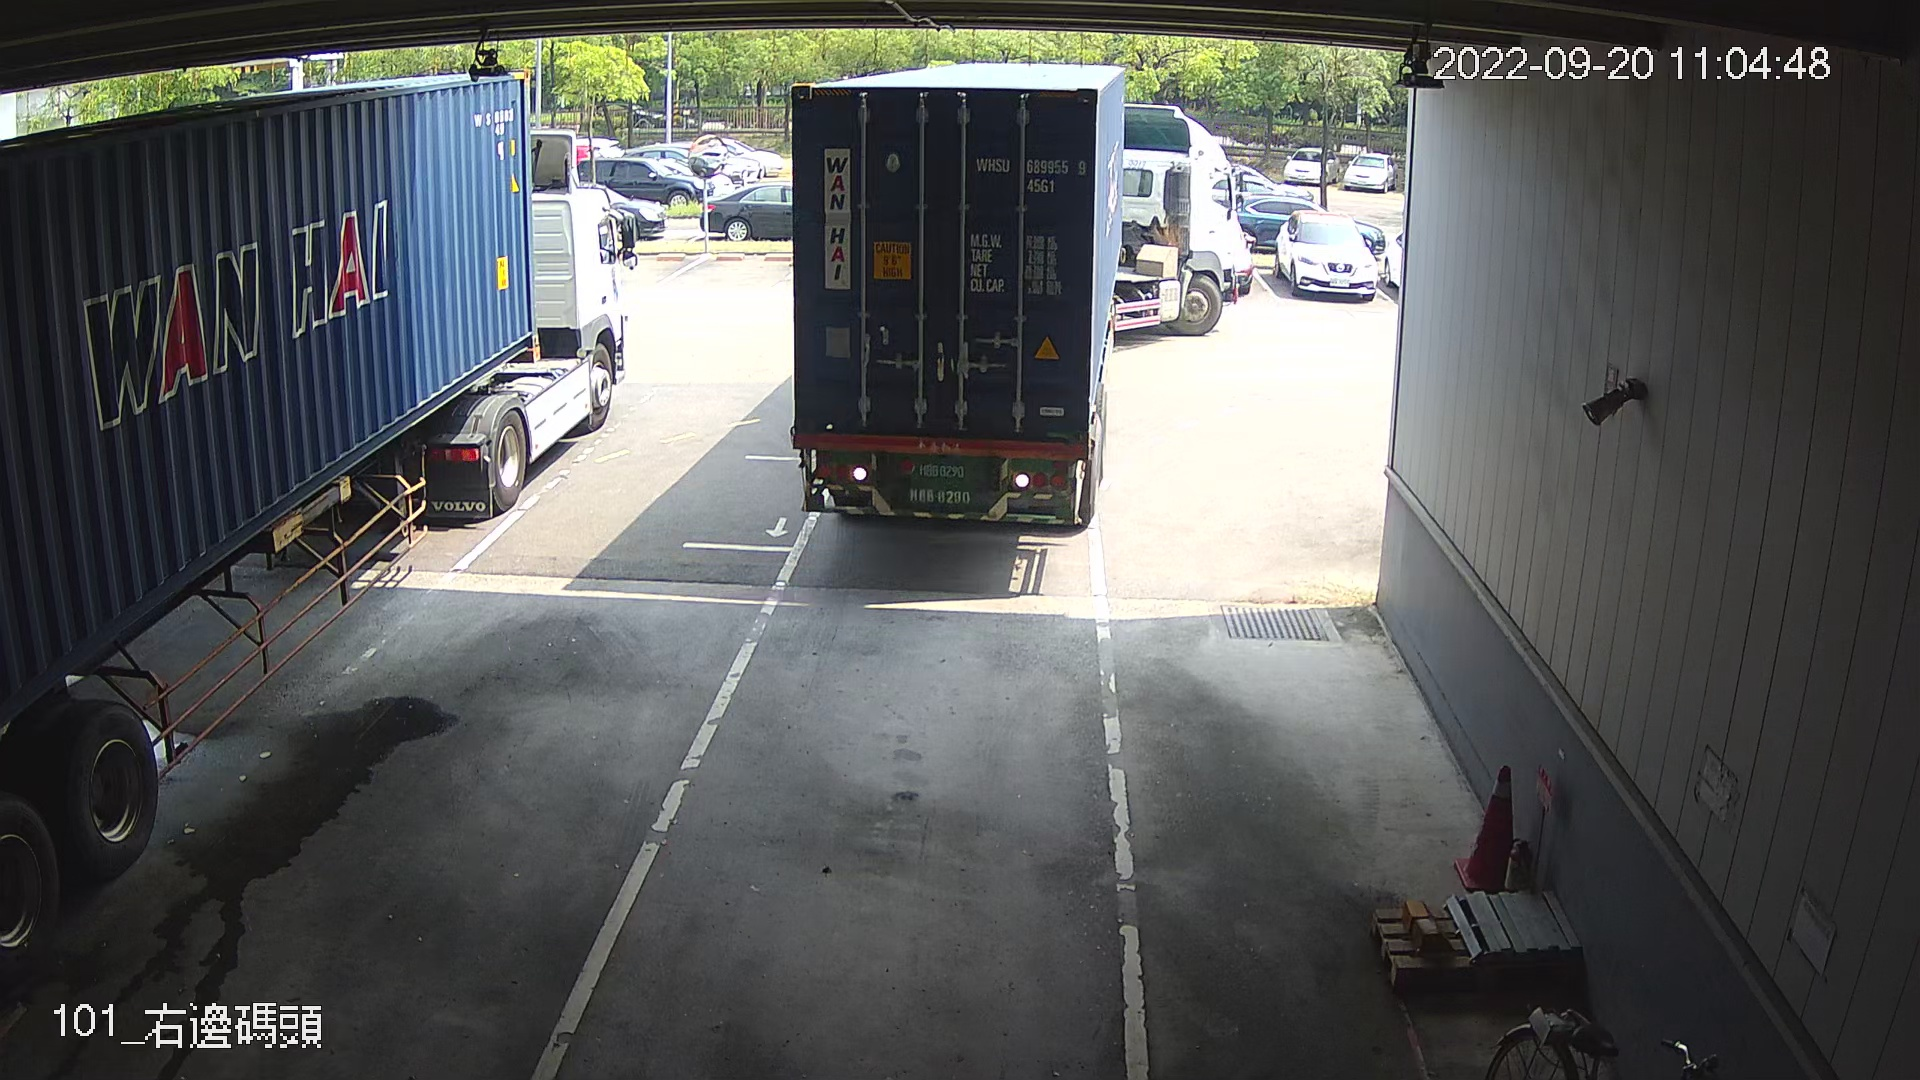container: (969, 148, 1091, 198)
